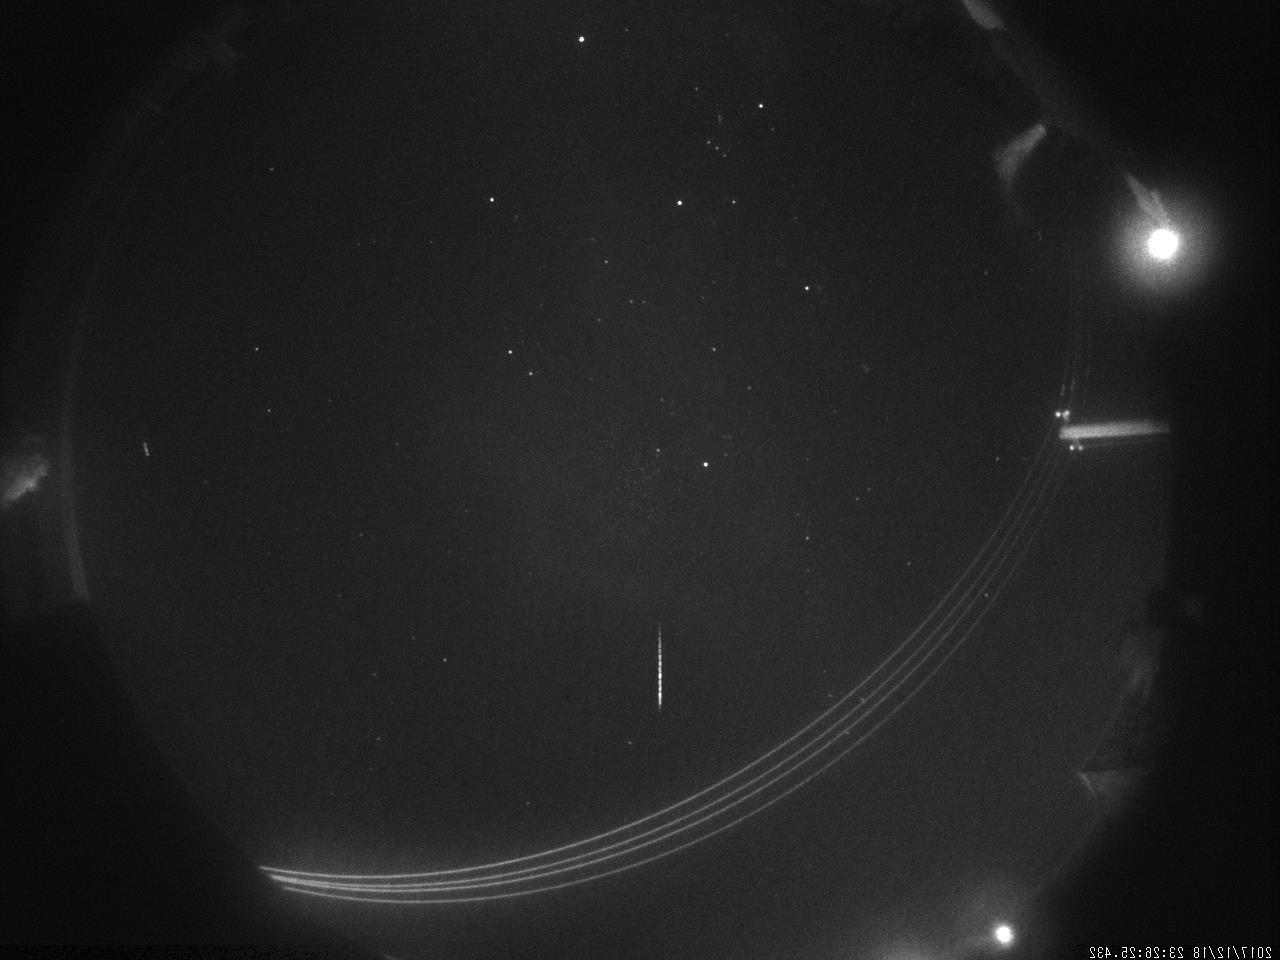meteor: (648, 621, 672, 715)
